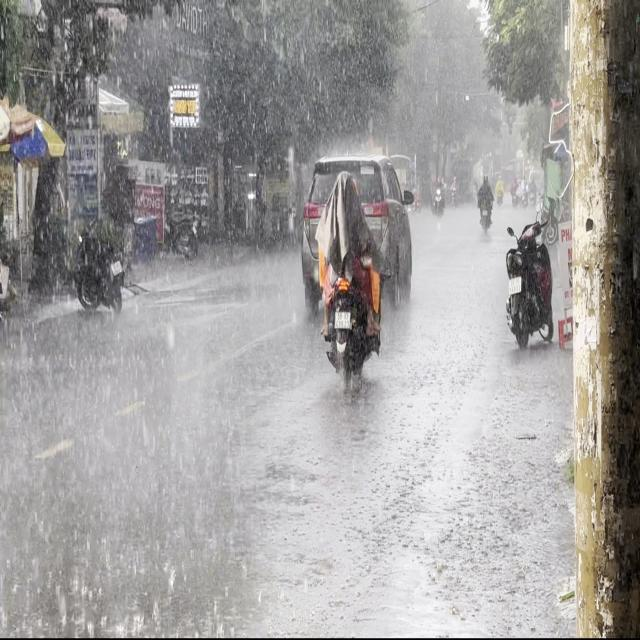licenseplate: (314, 171, 383, 391)
nohelmet: (334, 310, 350, 327)
